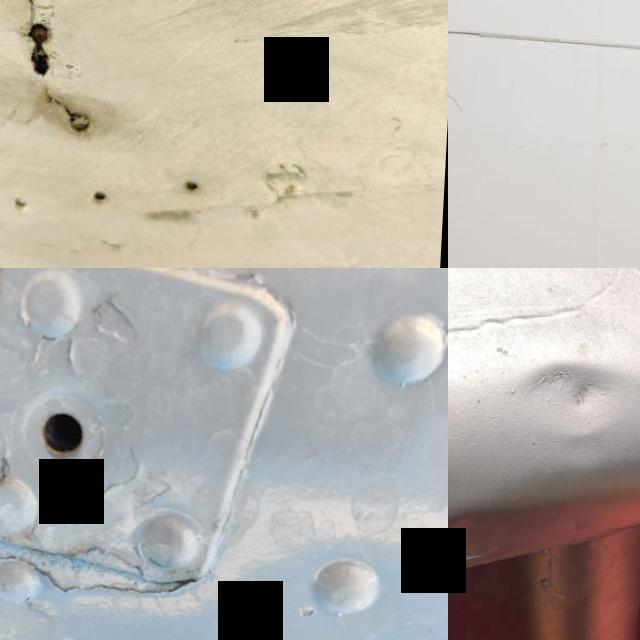Crack: (0, 0, 127, 153), (448, 32, 472, 122)
Dent: (497, 316, 640, 474), (448, 436, 513, 586)
Missing_Fastener: (11, 380, 114, 486)
